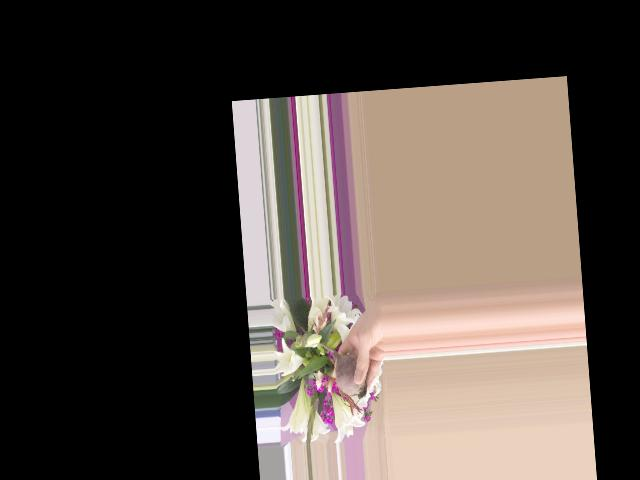beet: (311, 339, 369, 409)
